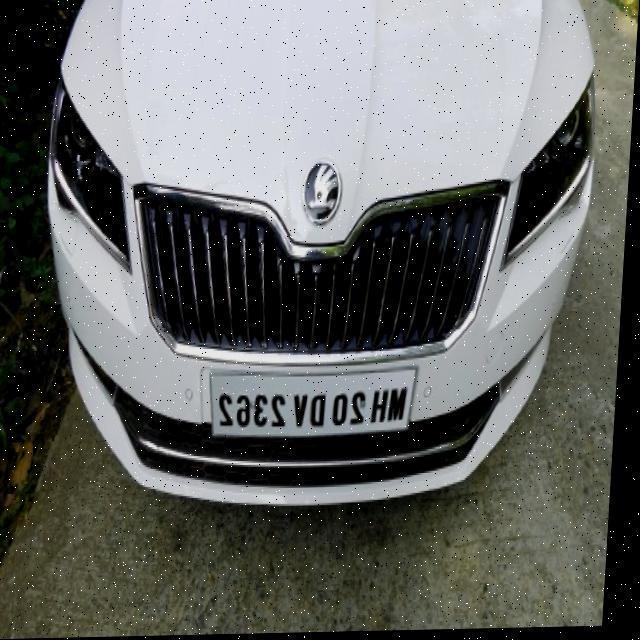plate: (212, 364, 423, 441)
